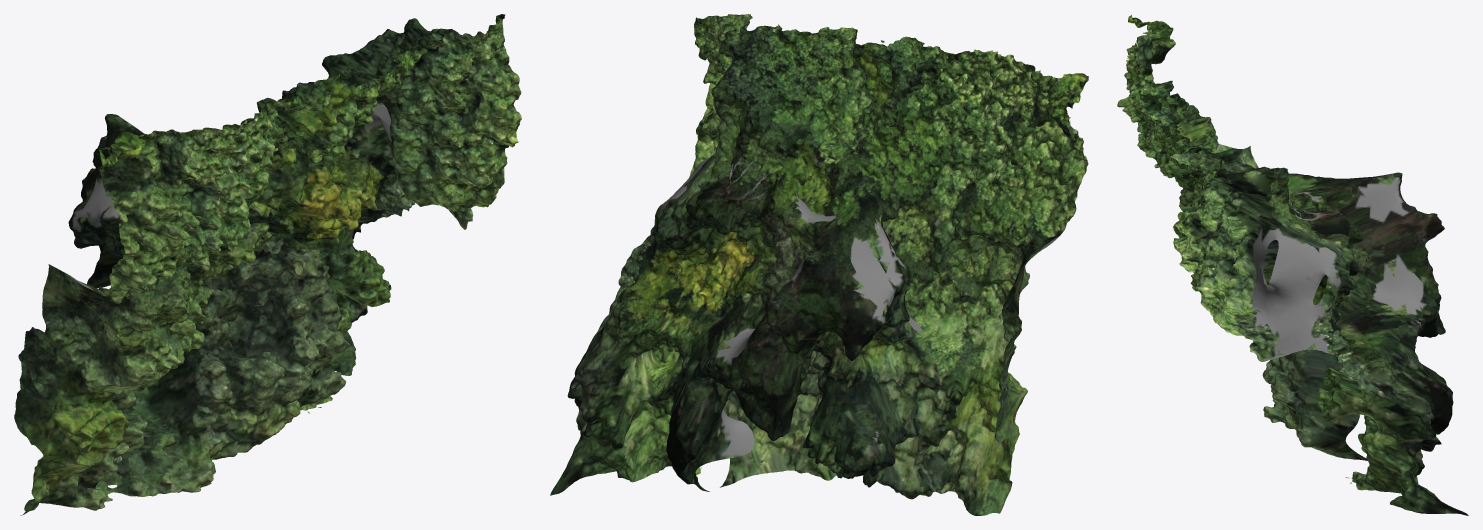
File: Tile_+014_+001.fbx
3 views of the same model, side by side, from view 1: azimuth 30°, elevation 25°; view 2: azimuth 150°, elevation 25°; view 3: azimuth 270°, elevation 25° (orthographic). The views are drawn at different scales.
Parts seen in each view (by area): view 1: DefaultName; view 2: DefaultName; view 3: DefaultName.
Boxes of the visible parts, <box> form: DefaultName: <box>14,14,521,515</box>; DefaultName: <box>550,14,1088,515</box>; DefaultName: <box>1117,15,1468,515</box>.
Bounding box in the file's own units: 22.54 × 22.54 × 20.97.
